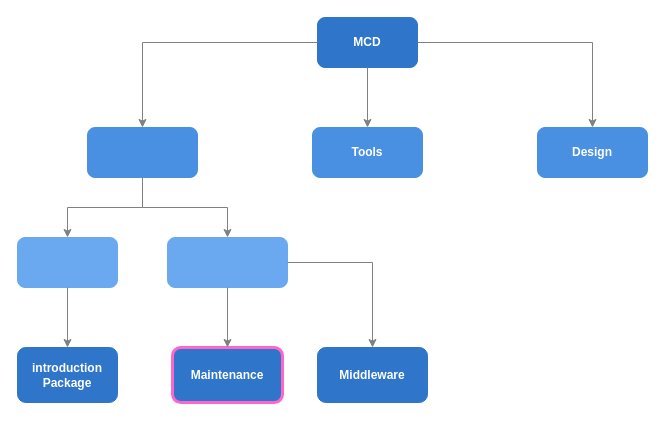
Some shapes in this 665 by 421 pixel diagram are drawn without their labels. Here are the shapes that lost their labels. From the top down, the centre of each, then its label:
pixel 142 152: Application
pixel 67 262: Support
pixel 227 262: Embedded Software
